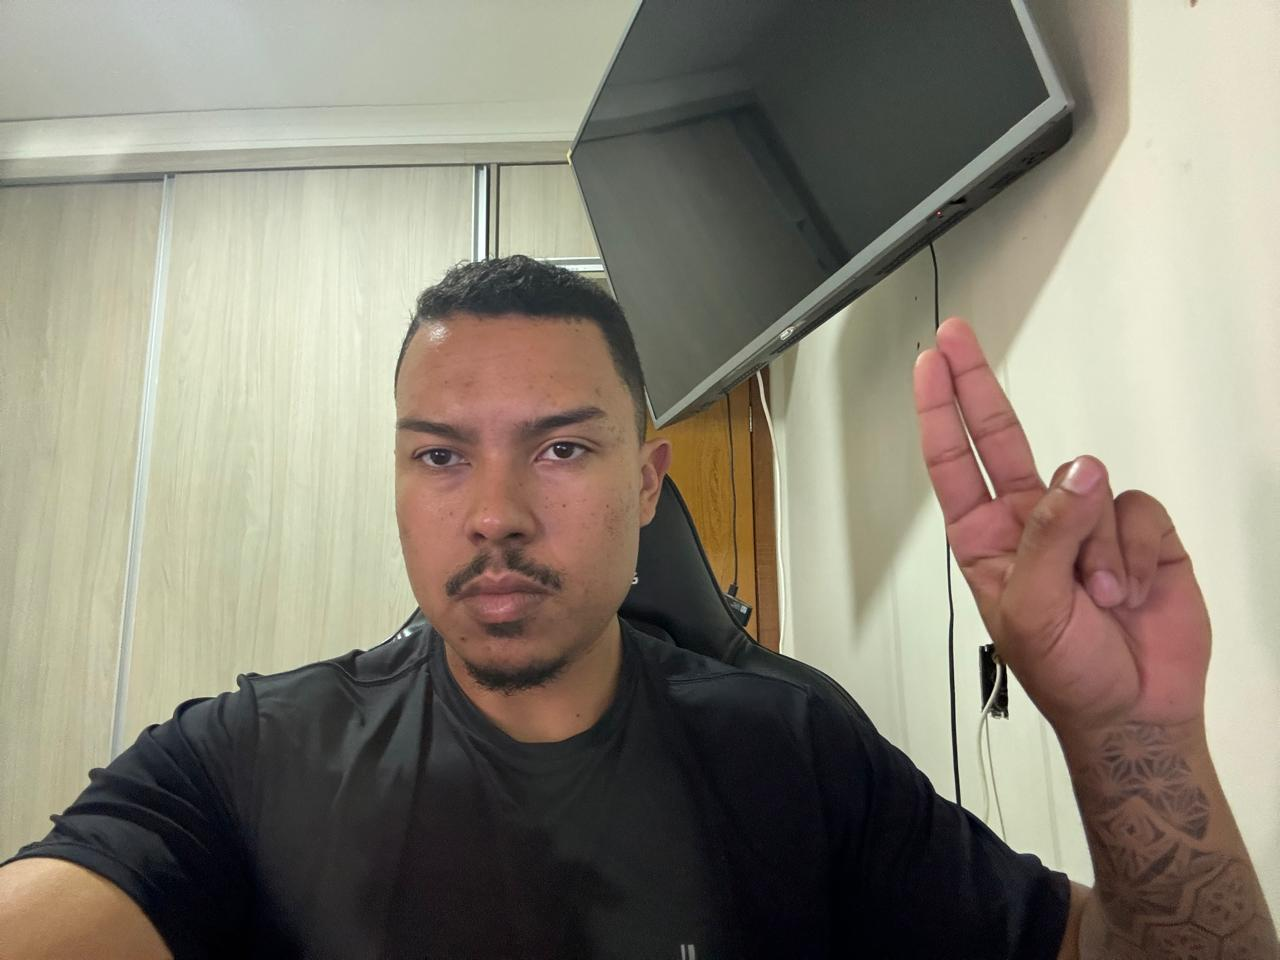u: (903, 304, 1222, 734)
